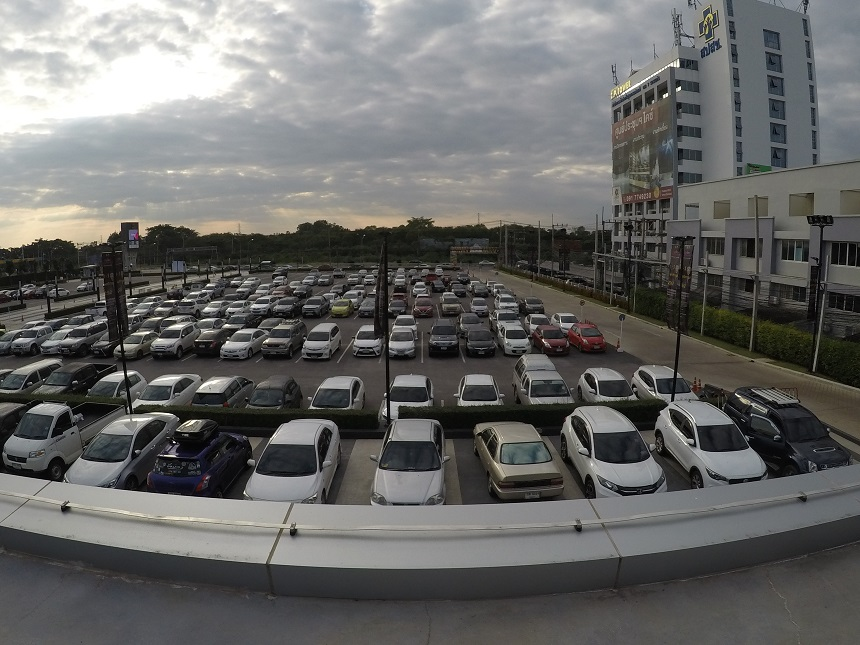busy: (368, 451, 451, 497), (579, 442, 663, 487), (253, 446, 332, 493), (771, 423, 849, 469), (489, 447, 563, 492), (163, 443, 234, 487), (77, 445, 146, 479), (693, 444, 765, 476), (15, 428, 74, 462), (315, 381, 368, 409), (520, 376, 571, 402), (251, 379, 301, 405), (453, 381, 505, 405), (581, 372, 626, 398), (384, 379, 432, 403), (644, 372, 689, 397), (147, 378, 189, 403), (197, 379, 239, 404), (94, 371, 137, 395), (46, 367, 87, 389), (149, 340, 187, 358), (221, 341, 256, 360), (350, 338, 383, 358), (5, 370, 32, 393), (426, 338, 460, 356), (262, 337, 294, 356), (304, 340, 336, 358), (539, 335, 569, 353), (466, 340, 496, 358), (577, 334, 606, 352), (388, 340, 417, 358), (500, 337, 530, 354), (191, 338, 217, 356), (1, 402, 24, 422), (88, 341, 113, 357), (60, 340, 85, 356), (119, 344, 144, 358), (13, 338, 37, 352), (40, 340, 58, 352), (1, 338, 10, 352)
